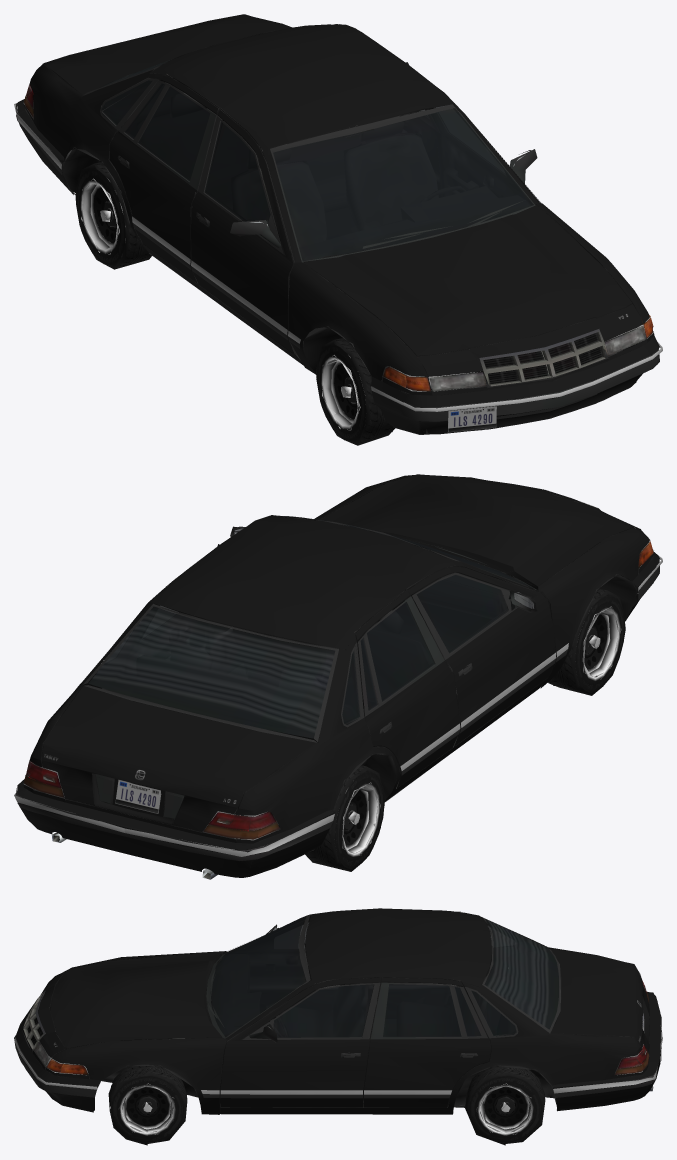
The model's file is illinois_lod1.glb.
3 views of the same model, one above another, from view 1: azimuth 30°, elevation 25°; view 2: azimuth 150°, elevation 25°; view 3: azimuth 270°, elevation 25° (orthographic). The views are drawn at different scales.
Visible parts, largest first — view 1: Illinois90_Body_Illinois90_Bodymat_0, Illinois90_Interior_UCB_Interiors_2_0, Illinois90_Hood_Illinois90_Bodymat_0, Illinois90_Windshield_UCB_Lights_and_Glass_Transperent_0, Illinois90_Bottom_UCB_BOTTOM_0, Illinois90_Trunkdoor_Illinois90_Bodymat_0, Illinois90_Bumper_front_Illinois90_Bodymat_0, Illinois90_Body_Glass_UCB_Lights_and_Glass_Transperent_0, wheel_FR, wheel_RR, Illinois90_Bumper_front_inner_UCB_BOTTOM_0, Illinois90_Glass_Passenger_UCB_Lights_and_Glass_Transperent_ (+7 smaller); view 2: Illinois90_Body_Illinois90_Bodymat_0, Illinois90_Interior_UCB_Interiors_2_0, Illinois90_Trunkdoor_Illinois90_Bodymat_0, Illinois90_Rear_Glass_UCB_Lights_and_Glass_Transperent_0, Illinois90_Hood_Illinois90_Bodymat_0, Illinois90_Bottom_UCB_BOTTOM_0, Illinois90_Bumper_rear_Illinois90_Bodymat_0, Illinois90_Body_Glass_UCB_Lights_and_Glass_Transperent_0, wheel_RR, wheel_FR, Illinois90_Glass_Passenger_UCB_Lights_and_Glass_Transperent_, Illinois90_Bumper_rear_inner_UCB_BOTTOM_0 (+6 smaller); view 3: Illinois90_Body_Illinois90_Bodymat_0, Illinois90_Interior_UCB_Interiors_2_0, Illinois90_Hood_Illinois90_Bodymat_0, Illinois90_Bottom_UCB_BOTTOM_0, Illinois90_Trunkdoor_Illinois90_Bodymat_0, Illinois90_Windshield_UCB_Lights_and_Glass_Transperent_0, Illinois90_Body_Glass_UCB_Lights_and_Glass_Transperent_0, wheel_FL, wheel_RL, Illinois90_Rear_Glass_UCB_Lights_and_Glass_Transperent_0, Illinois90_glass_Driver_UCB_Lights_and_Glass_Transperent_0, Illinois90_Bumper_rear_Illinois90_Bodymat_0 (+7 smaller).
Part boxes in pixels (bbox=[...]): Illinois90_Body_Illinois90_Bodymat_0: bbox=[23, 15, 654, 395]; Illinois90_Interior_UCB_Interiors_2_0: bbox=[88, 66, 532, 338]; Illinois90_Hood_Illinois90_Bodymat_0: bbox=[303, 204, 632, 356]; Illinois90_Windshield_UCB_Lights_and_Glass_Transperent_0: bbox=[273, 108, 533, 261]; Illinois90_Bottom_UCB_BOTTOM_0: bbox=[23, 24, 653, 434]; Illinois90_Trunkdoor_Illinois90_Bodymat_0: bbox=[43, 14, 287, 95]; Illinois90_Bumper_front_Illinois90_Bodymat_0: bbox=[371, 336, 659, 434]; Illinois90_Body_Glass_UCB_Lights_and_Glass_Transperent_0: bbox=[101, 80, 424, 181]; wheel_FR: bbox=[316, 338, 395, 445]; wheel_RR: bbox=[75, 162, 151, 269]; Illinois90_Bumper_front_inner_UCB_BOTTOM_0: bbox=[371, 327, 662, 421]; Illinois90_Glass_Passenger_UCB_Lights_and_Glass_Transperent_: bbox=[204, 122, 270, 221]; Illinois90_Body_Illinois90_Bodymat_0: bbox=[23, 475, 654, 843]; Illinois90_Interior_UCB_Interiors_2_0: bbox=[89, 515, 536, 773]; Illinois90_Trunkdoor_Illinois90_Bodymat_0: bbox=[41, 686, 316, 831]; Illinois90_Rear_Glass_UCB_Lights_and_Glass_Transperent_0: bbox=[88, 606, 335, 738]; Illinois90_Hood_Illinois90_Bodymat_0: bbox=[320, 474, 632, 589]; Illinois90_Bottom_UCB_BOTTOM_0: bbox=[23, 481, 654, 879]; Illinois90_Bumper_rear_Illinois90_Bodymat_0: bbox=[17, 765, 331, 877]; Illinois90_Body_Glass_UCB_Lights_and_Glass_Transperent_0: bbox=[106, 602, 434, 724]; wheel_RR: bbox=[305, 765, 384, 871]; wheel_FR: bbox=[548, 589, 625, 695]; Illinois90_Glass_Passenger_UCB_Lights_and_Glass_Transperent_: bbox=[416, 575, 508, 653]; Illinois90_Bumper_rear_inner_UCB_BOTTOM_0: bbox=[14, 766, 335, 860]; Illinois90_Body_Illinois90_Bodymat_0: bbox=[32, 908, 649, 1114]; Illinois90_Interior_UCB_Interiors_2_0: bbox=[211, 915, 558, 1103]; Illinois90_Hood_Illinois90_Bodymat_0: bbox=[50, 952, 221, 1048]; Illinois90_Bottom_UCB_BOTTOM_0: bbox=[22, 911, 653, 1114]; Illinois90_Trunkdoor_Illinois90_Bodymat_0: bbox=[551, 949, 649, 1053]; Illinois90_Windshield_UCB_Lights_and_Glass_Transperent_0: bbox=[210, 916, 306, 1037]; Illinois90_Body_Glass_UCB_Lights_and_Glass_Transperent_0: bbox=[383, 926, 516, 1037]; wheel_FL: bbox=[108, 1065, 187, 1145]; wheel_RL: bbox=[465, 1066, 545, 1145]; Illinois90_Rear_Glass_UCB_Lights_and_Glass_Transperent_0: bbox=[484, 919, 558, 1029]; Illinois90_glass_Driver_UCB_Lights_and_Glass_Transperent_0: bbox=[273, 984, 373, 1037]; Illinois90_Bumper_rear_Illinois90_Bodymat_0: bbox=[553, 991, 660, 1111].
Bounding box in the file's own units: 2.04 × 1.38 × 5.01.
8 materials, 7 textured.
